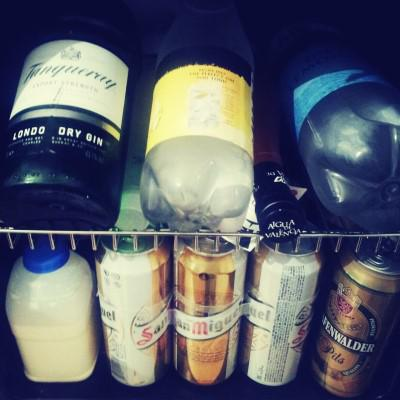beer: (93, 235, 400, 395)
